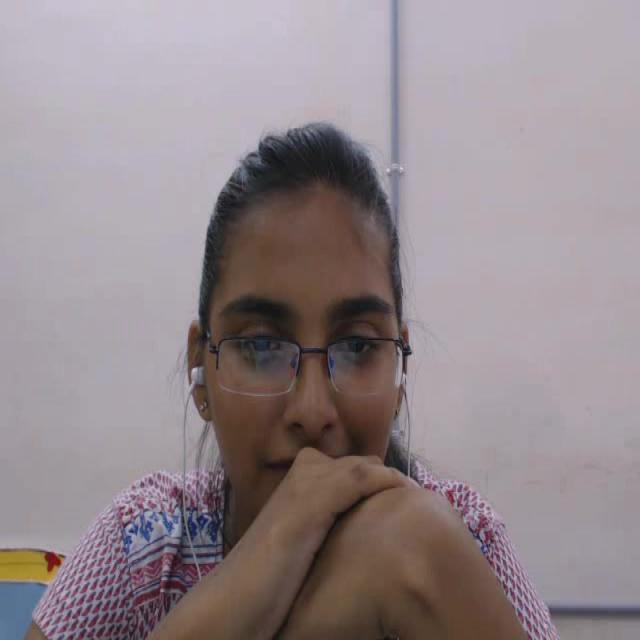Bored: (154, 104, 450, 556)
